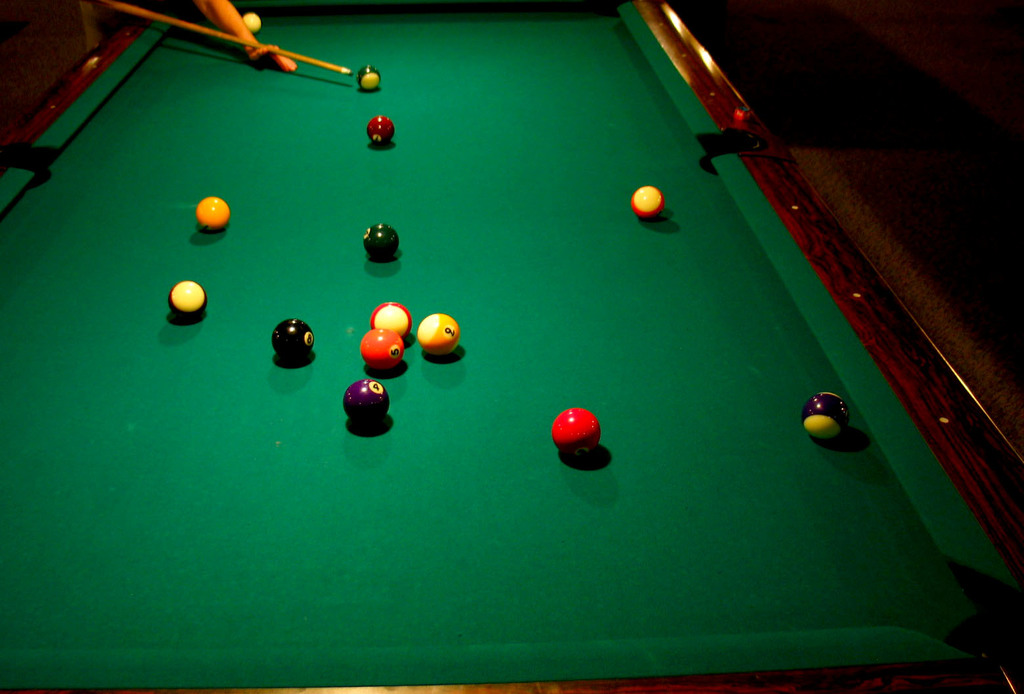Ball: (554, 403, 599, 457), (555, 407, 603, 457), (343, 378, 390, 428), (802, 396, 847, 444), (340, 380, 389, 424), (270, 321, 315, 367), (806, 393, 848, 440), (358, 330, 406, 371), (272, 321, 316, 365), (415, 316, 457, 359), (361, 225, 400, 263), (424, 314, 459, 356), (374, 301, 411, 339), (365, 327, 399, 368), (169, 281, 205, 317), (172, 283, 206, 321), (196, 195, 234, 229), (364, 228, 398, 266), (370, 302, 407, 334), (365, 112, 393, 150), (198, 195, 228, 229), (630, 184, 663, 214), (366, 116, 395, 149), (633, 186, 662, 212), (357, 64, 378, 91), (360, 68, 379, 95), (240, 12, 264, 31), (243, 10, 260, 32)
